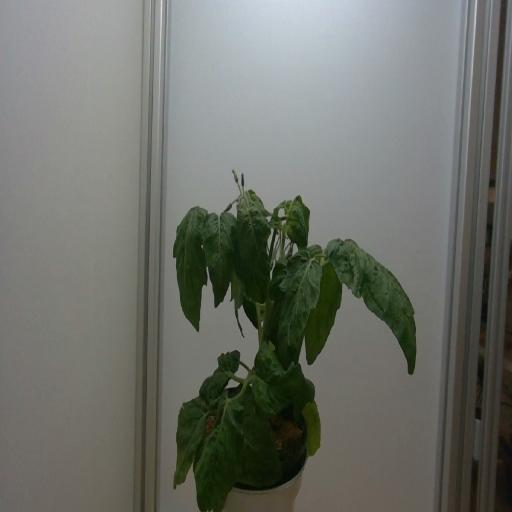Tomato-Leaves-Cupboard-: (327, 236, 418, 381), (222, 398, 285, 486), (172, 203, 209, 336), (276, 256, 322, 361), (167, 395, 214, 494), (190, 419, 239, 512), (305, 257, 345, 366), (232, 203, 272, 307), (202, 211, 238, 313), (256, 346, 300, 414), (300, 398, 326, 462), (290, 363, 316, 425), (198, 369, 234, 401), (292, 198, 310, 246), (218, 349, 243, 375), (234, 305, 248, 338), (272, 196, 288, 218)
